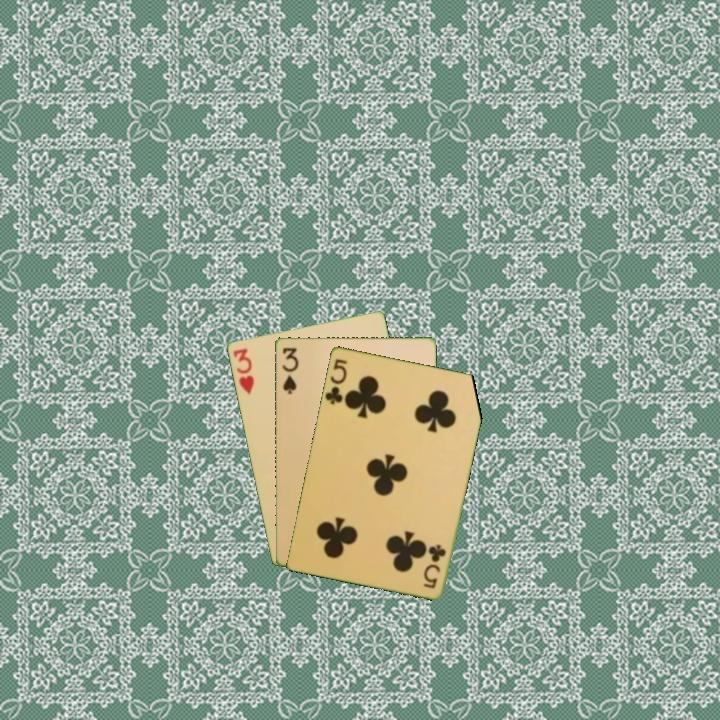3h: (229, 345, 257, 397)
3s: (278, 344, 300, 396)
5c: (419, 540, 449, 591), (322, 355, 350, 407)
